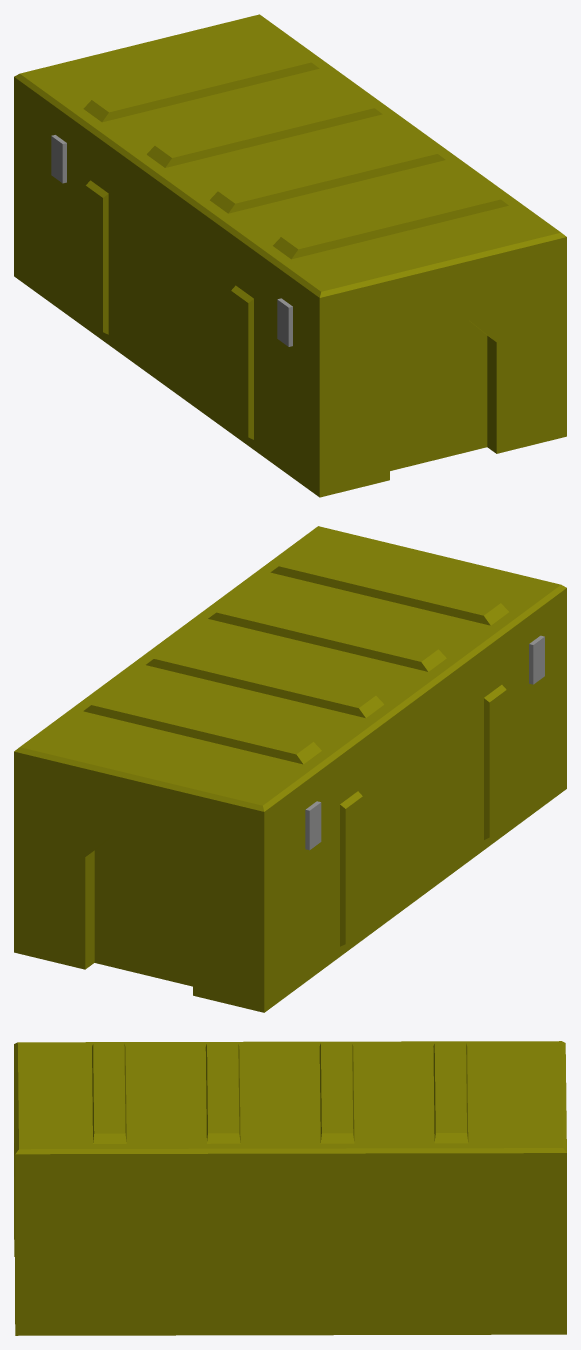
File: armor_box.fbx
The picture shows the model from 3 angles, top to bottom: view 1: azimuth 30°, elevation 25°; view 2: azimuth 150°, elevation 25°; view 3: azimuth 270°, elevation 25°; orthographic projection. The views are drawn at different scales.
Visible parts, largest first — view 1: armor_box; view 2: armor_box; view 3: armor_box.
Part boxes in pixels (x1,y1,x2,y2): armor_box: [14, 14, 566, 497]; armor_box: [14, 526, 566, 1012]; armor_box: [14, 1041, 566, 1335].
Size of the model in its own units: 211 by 167 by 436.
